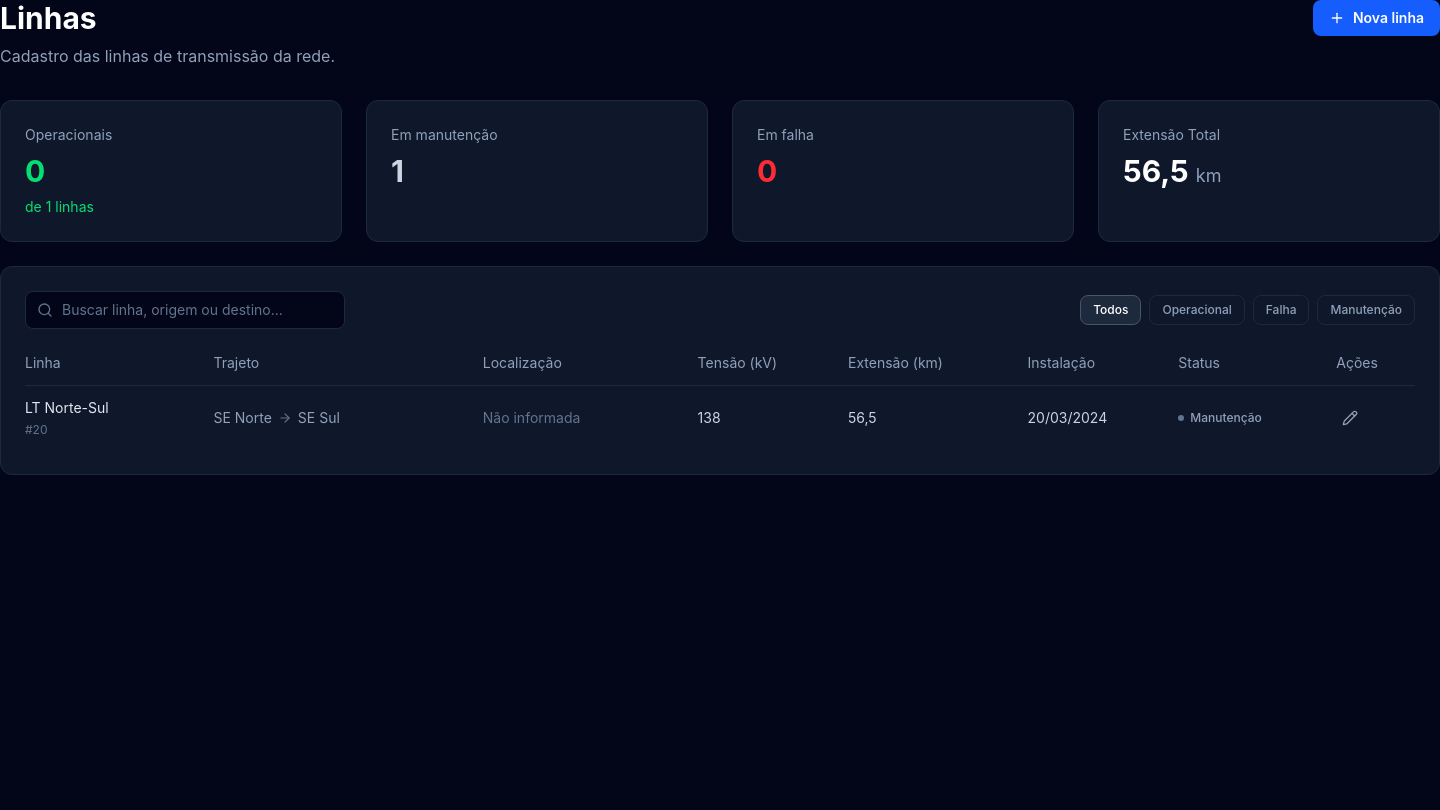
Test: cadastro › envia coordenadas vazias como nulas e ids numericos
The width and height of the screenshot is (1440, 810).
Click the button "Nova linha" at [1376, 18], box [1313,0,1439,36]
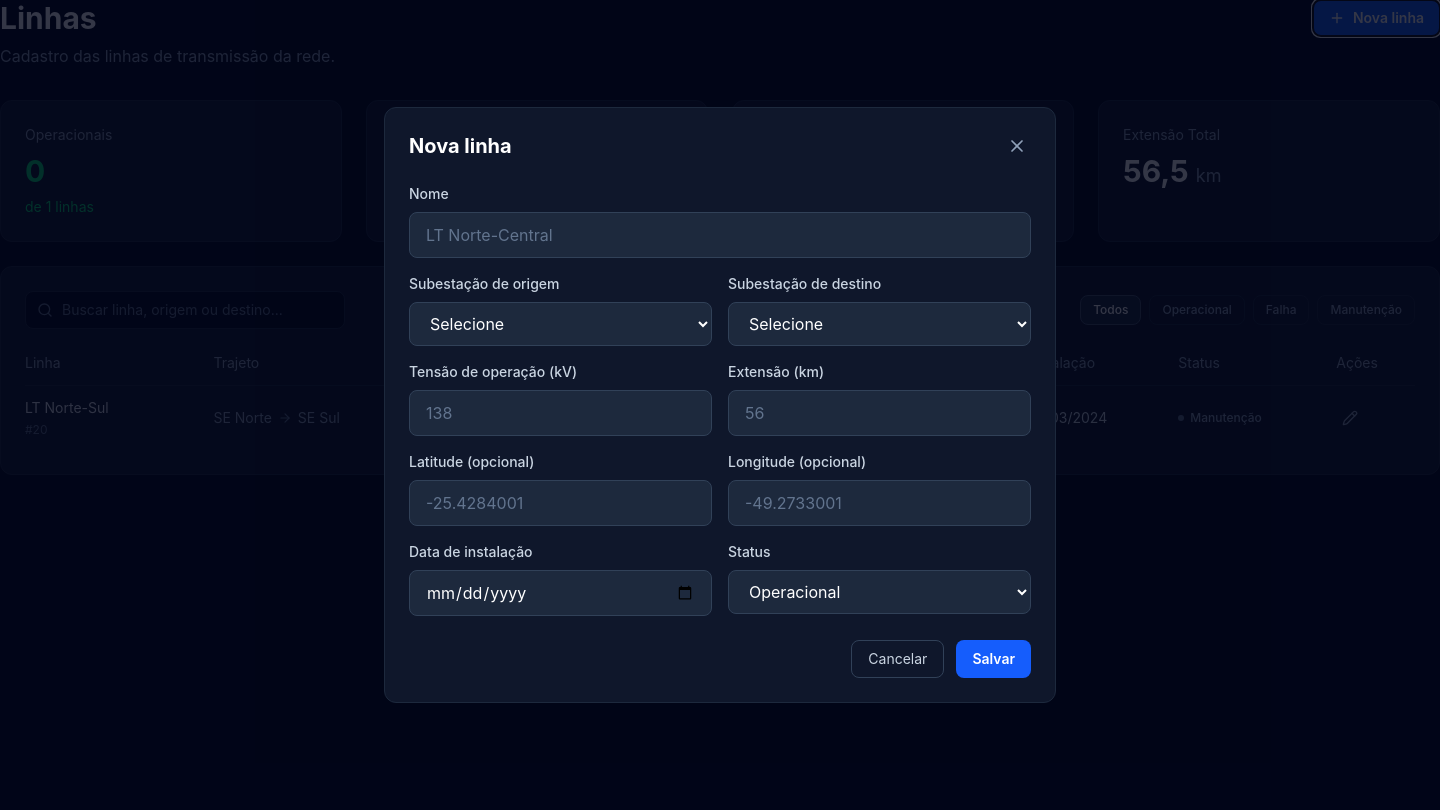
Type " LT Nova " into the field labelled "Nome" at [720, 235], box [409,212,1031,258]
Select "SE Norte" in the dropdown labelled "Subestação de origem" at [560, 324], box [409,302,712,346]
Select "SE Sul" in the dropdown labelled "Subestação de destino" at [880, 324], box [728,302,1031,346]
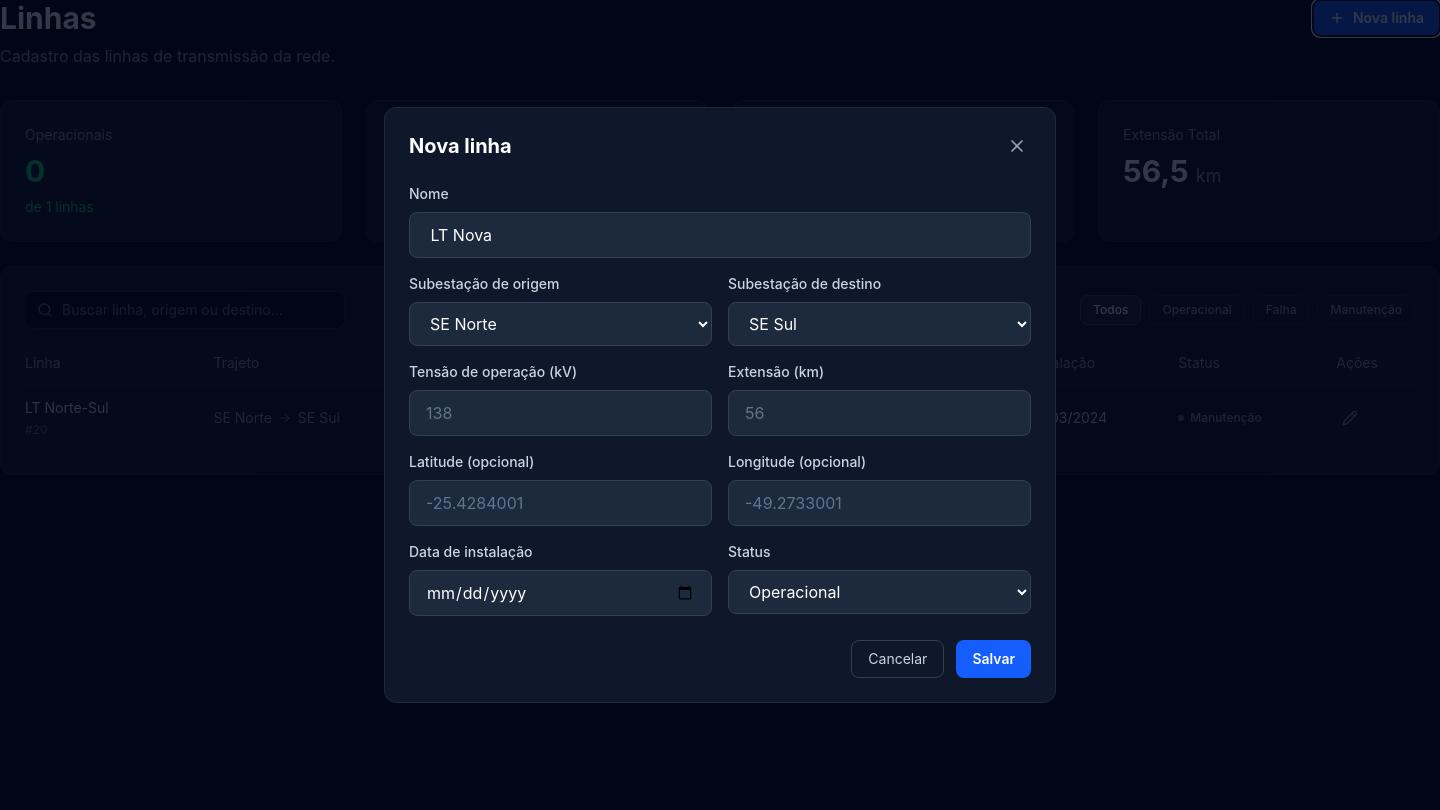
Type "69" into the field labelled "Tensão de operação (kV)" at [560, 413], box [409,390,712,436]
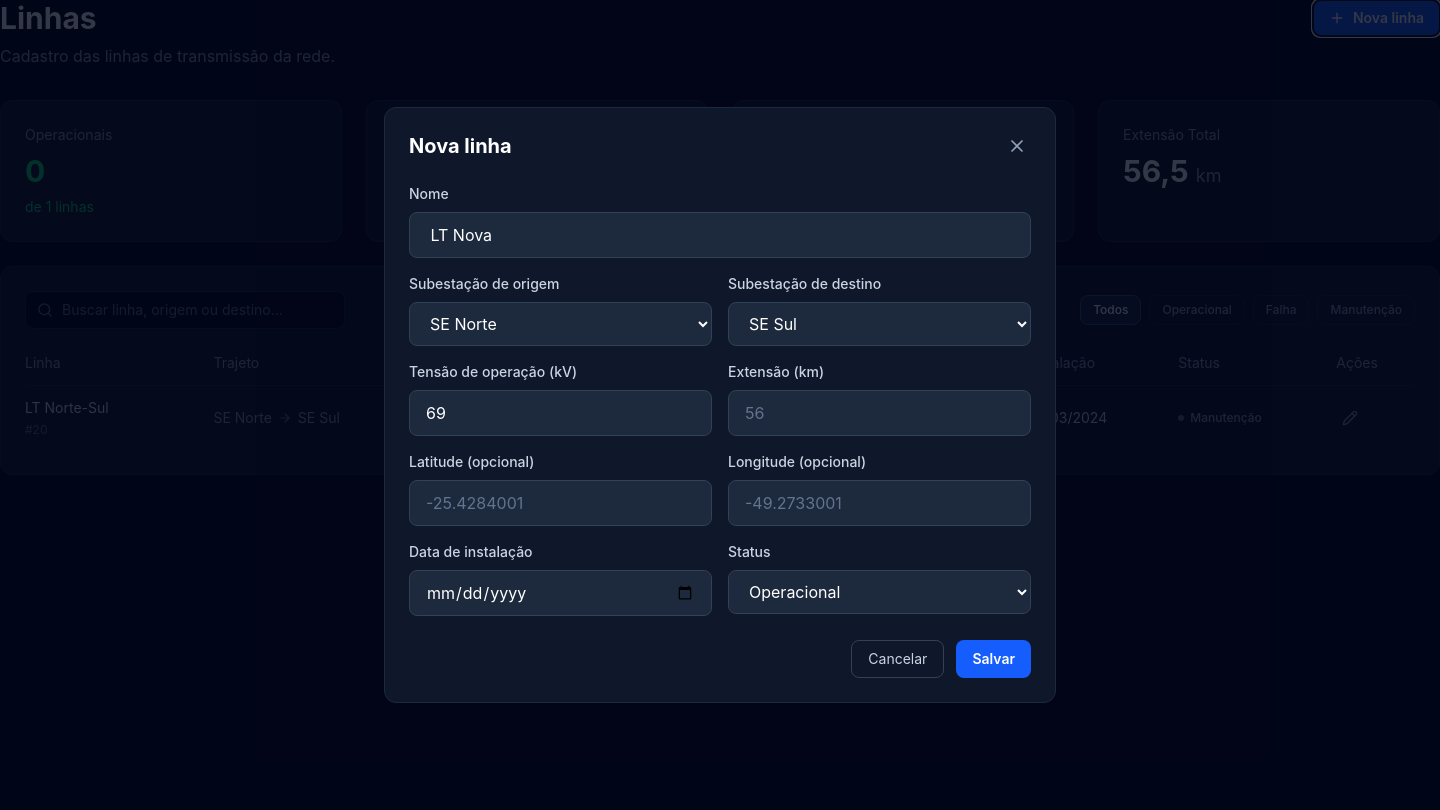
Type "12,5" into the field labelled "Extensão (km)" at [880, 413], box [728,390,1031,436]
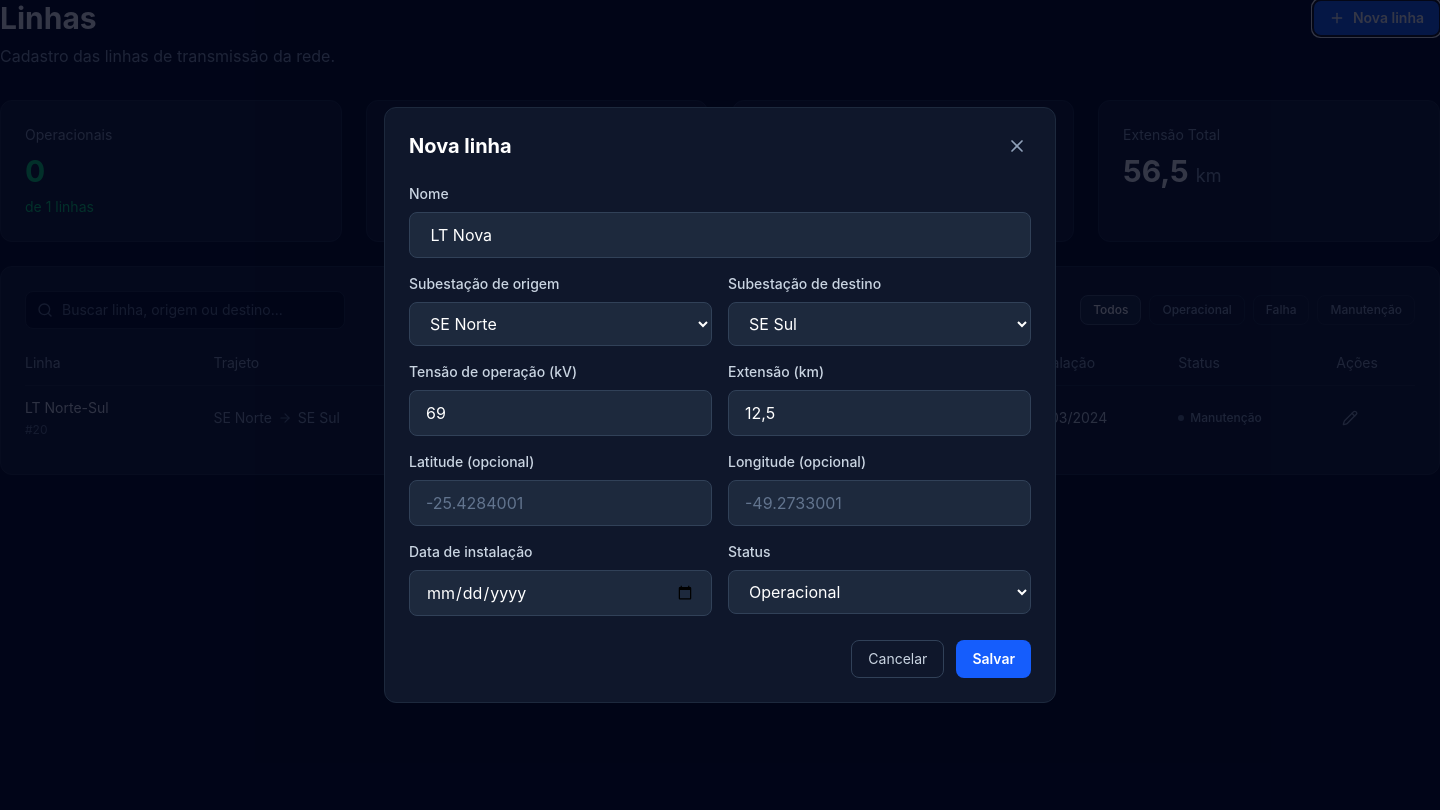
Type "2024-02-01" into the date field labelled "Data de instalação" at [560, 593], box [409,570,712,616]
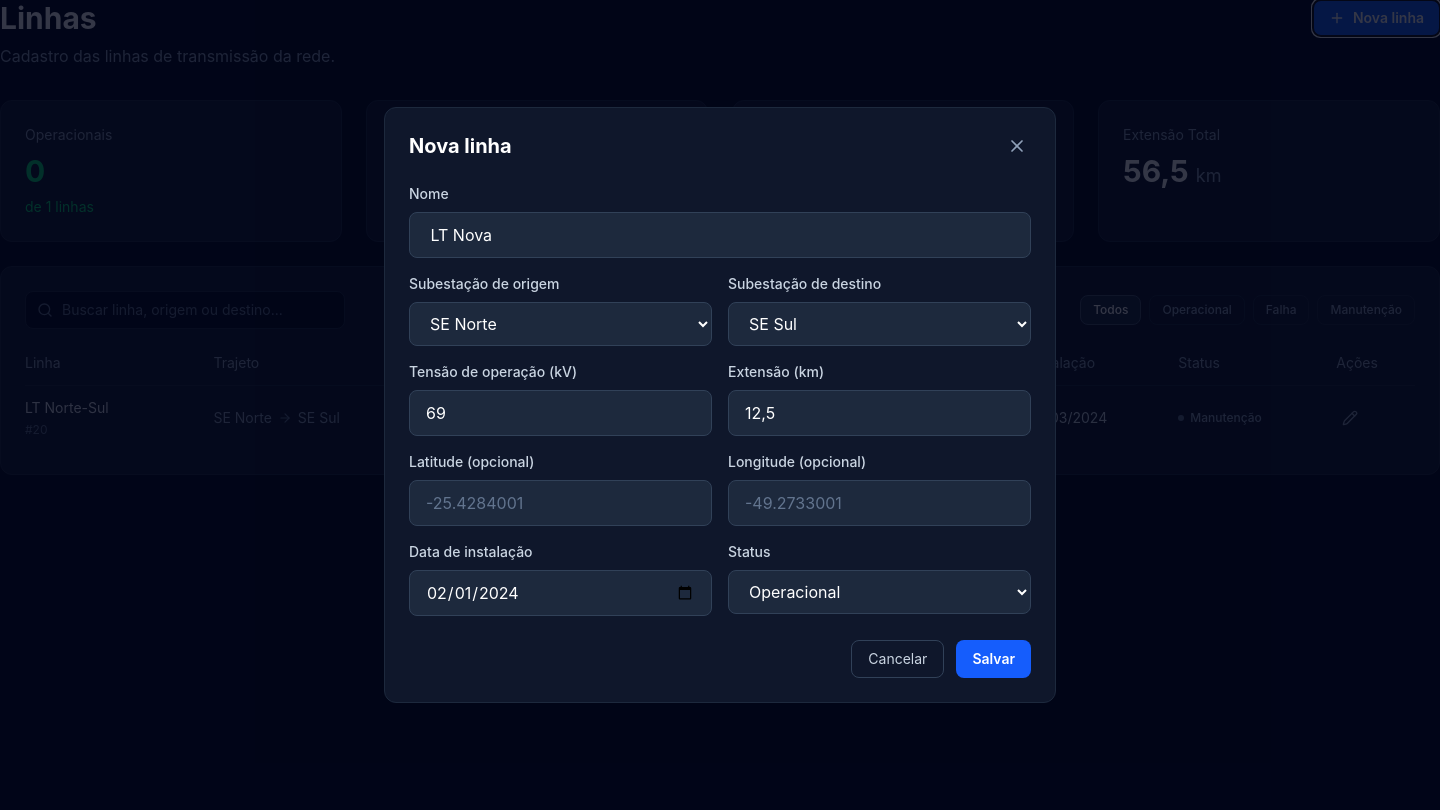
Click the button "Salvar" at [994, 659], box [956,640,1031,678]
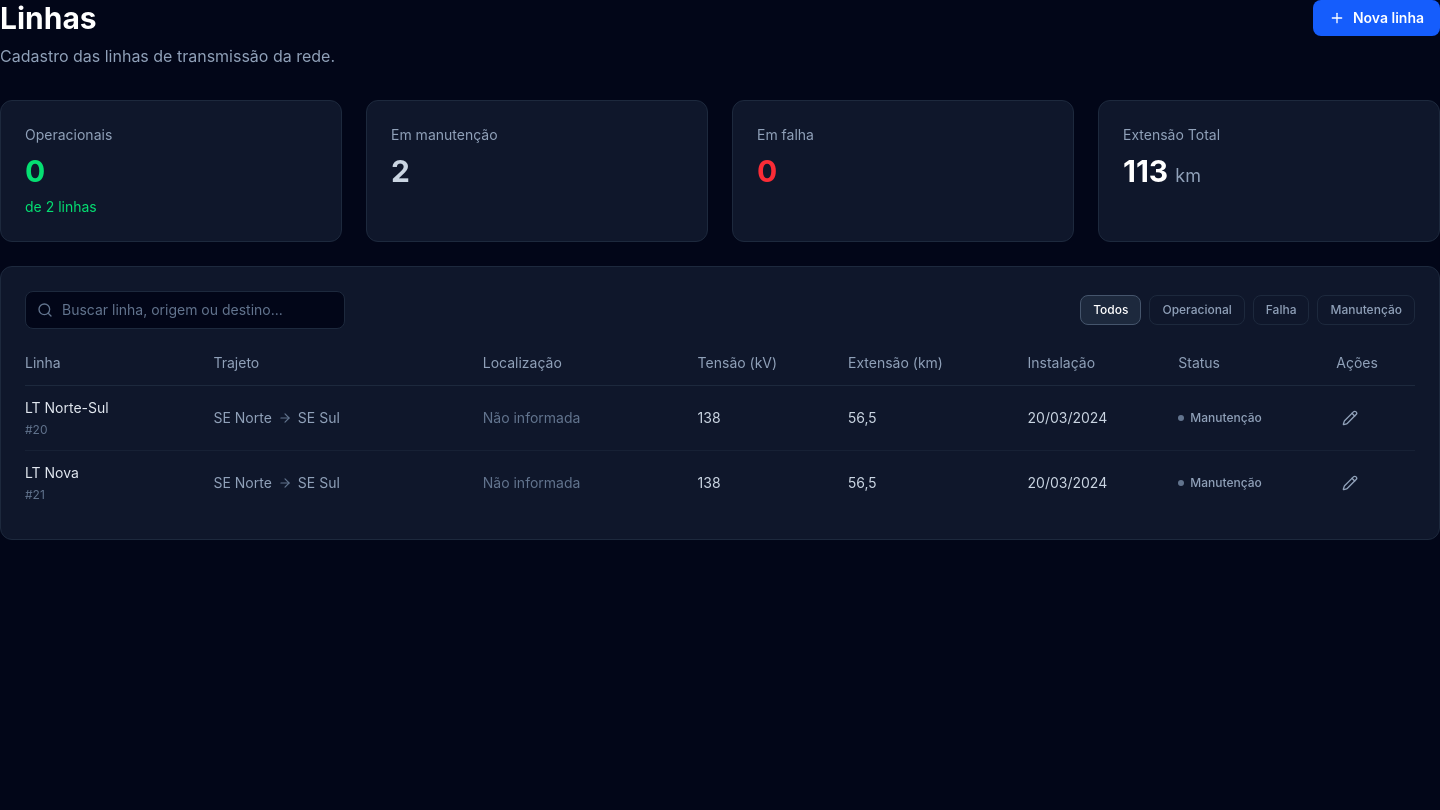
Result: the text "LT Nova" is shown at [25,464,79,481]
